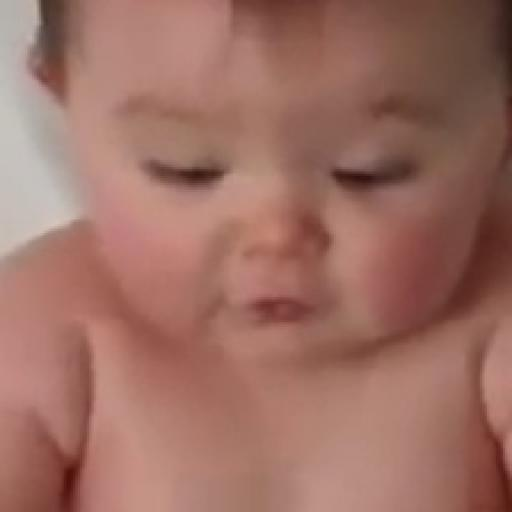Autism: (42, 13, 512, 368)
